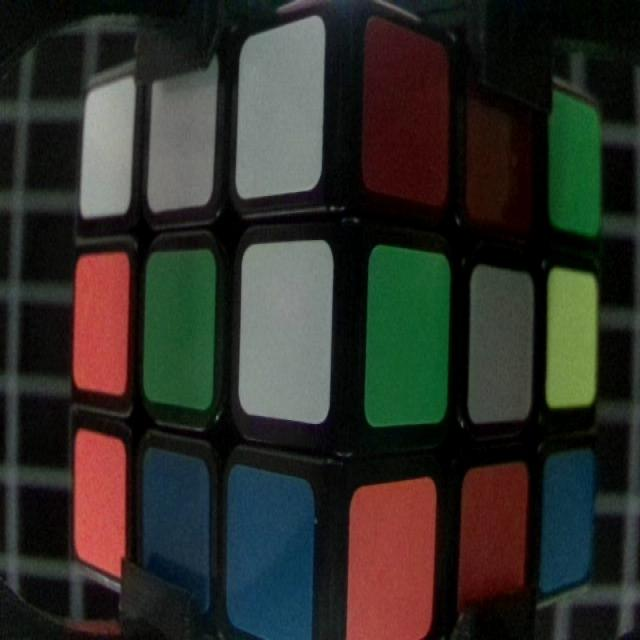b: (226, 472, 314, 638), (145, 449, 210, 605), (546, 453, 597, 586)
g: (368, 250, 447, 424), (140, 250, 212, 410), (552, 82, 603, 239), (549, 268, 600, 403)
o: (350, 476, 435, 640), (76, 252, 132, 396), (76, 430, 129, 579)
r: (363, 29, 446, 207), (464, 55, 540, 220), (459, 467, 528, 605)
w: (235, 21, 324, 198), (243, 244, 331, 421), (147, 51, 215, 210), (471, 270, 536, 426), (82, 74, 134, 219)
